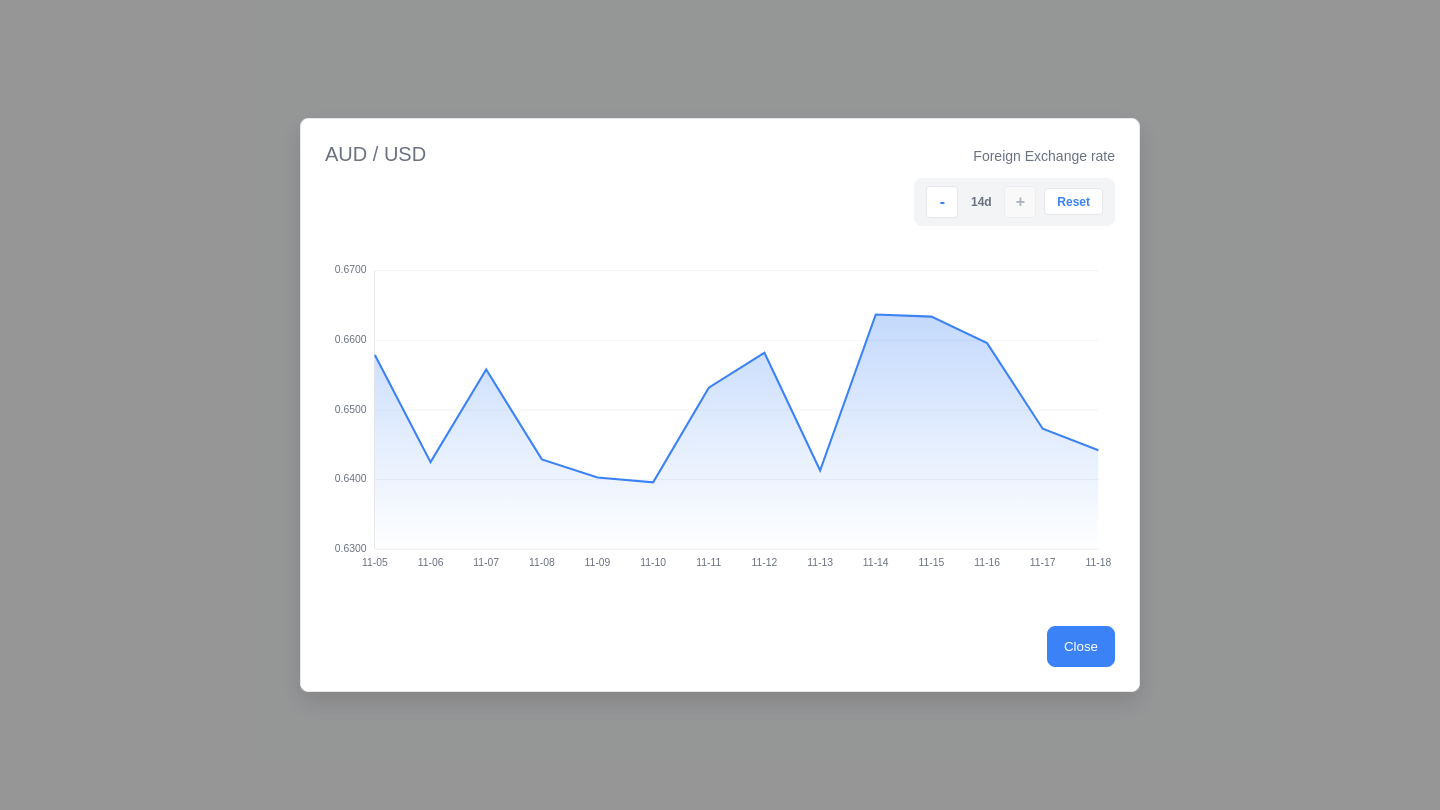
Test: ChartModal › Zoom Controls › reset button returns to default zoom level
Step 1. Click the button "-" → [942, 202], box [926,186,958,218]
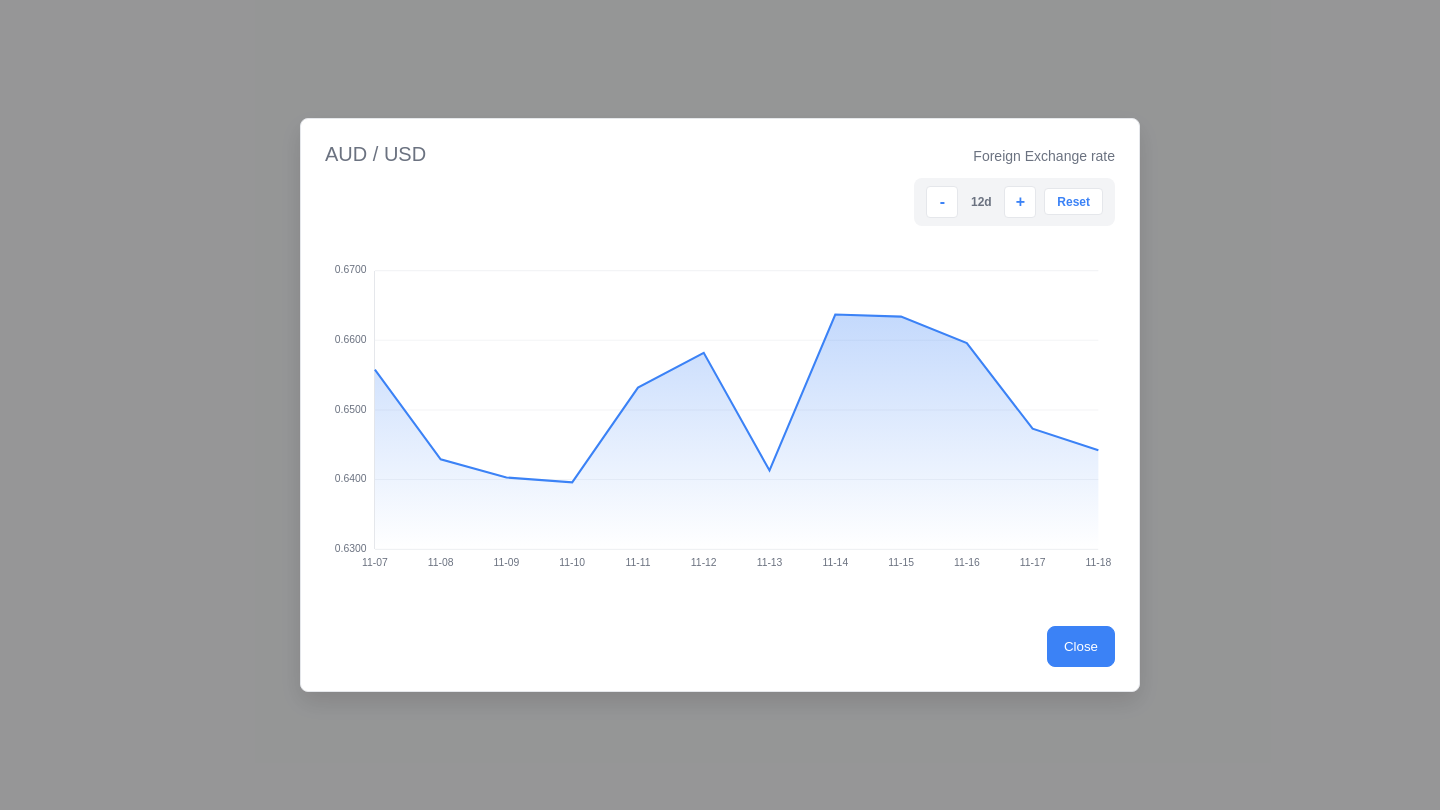
Step 2. Click the button "-" → [942, 202], box [926,186,958,218]
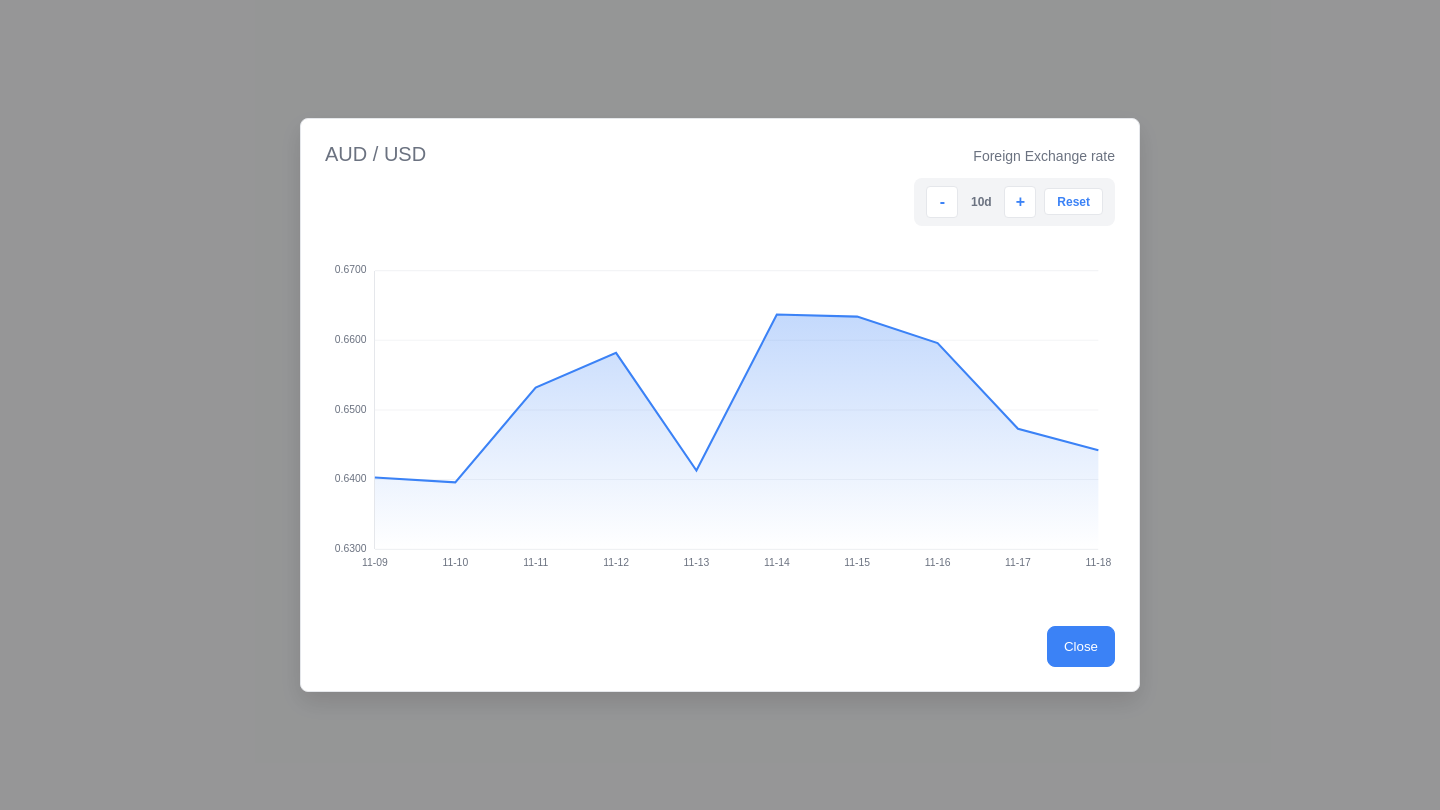
Step 3. Click the button "Reset" → [1074, 202], box [1044,188,1103,215]
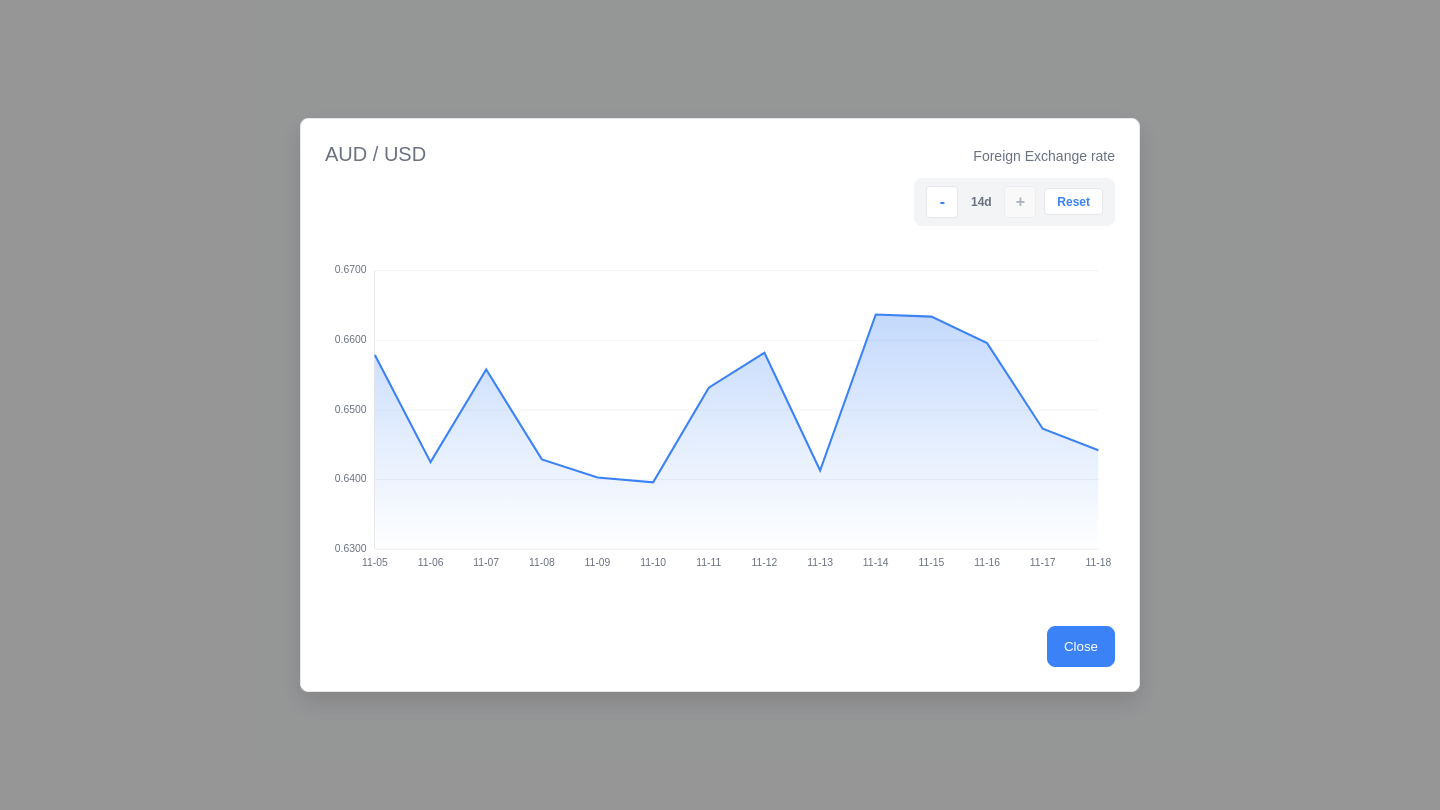
Check: the text "14d" is shown, box [971,195,992,209]
